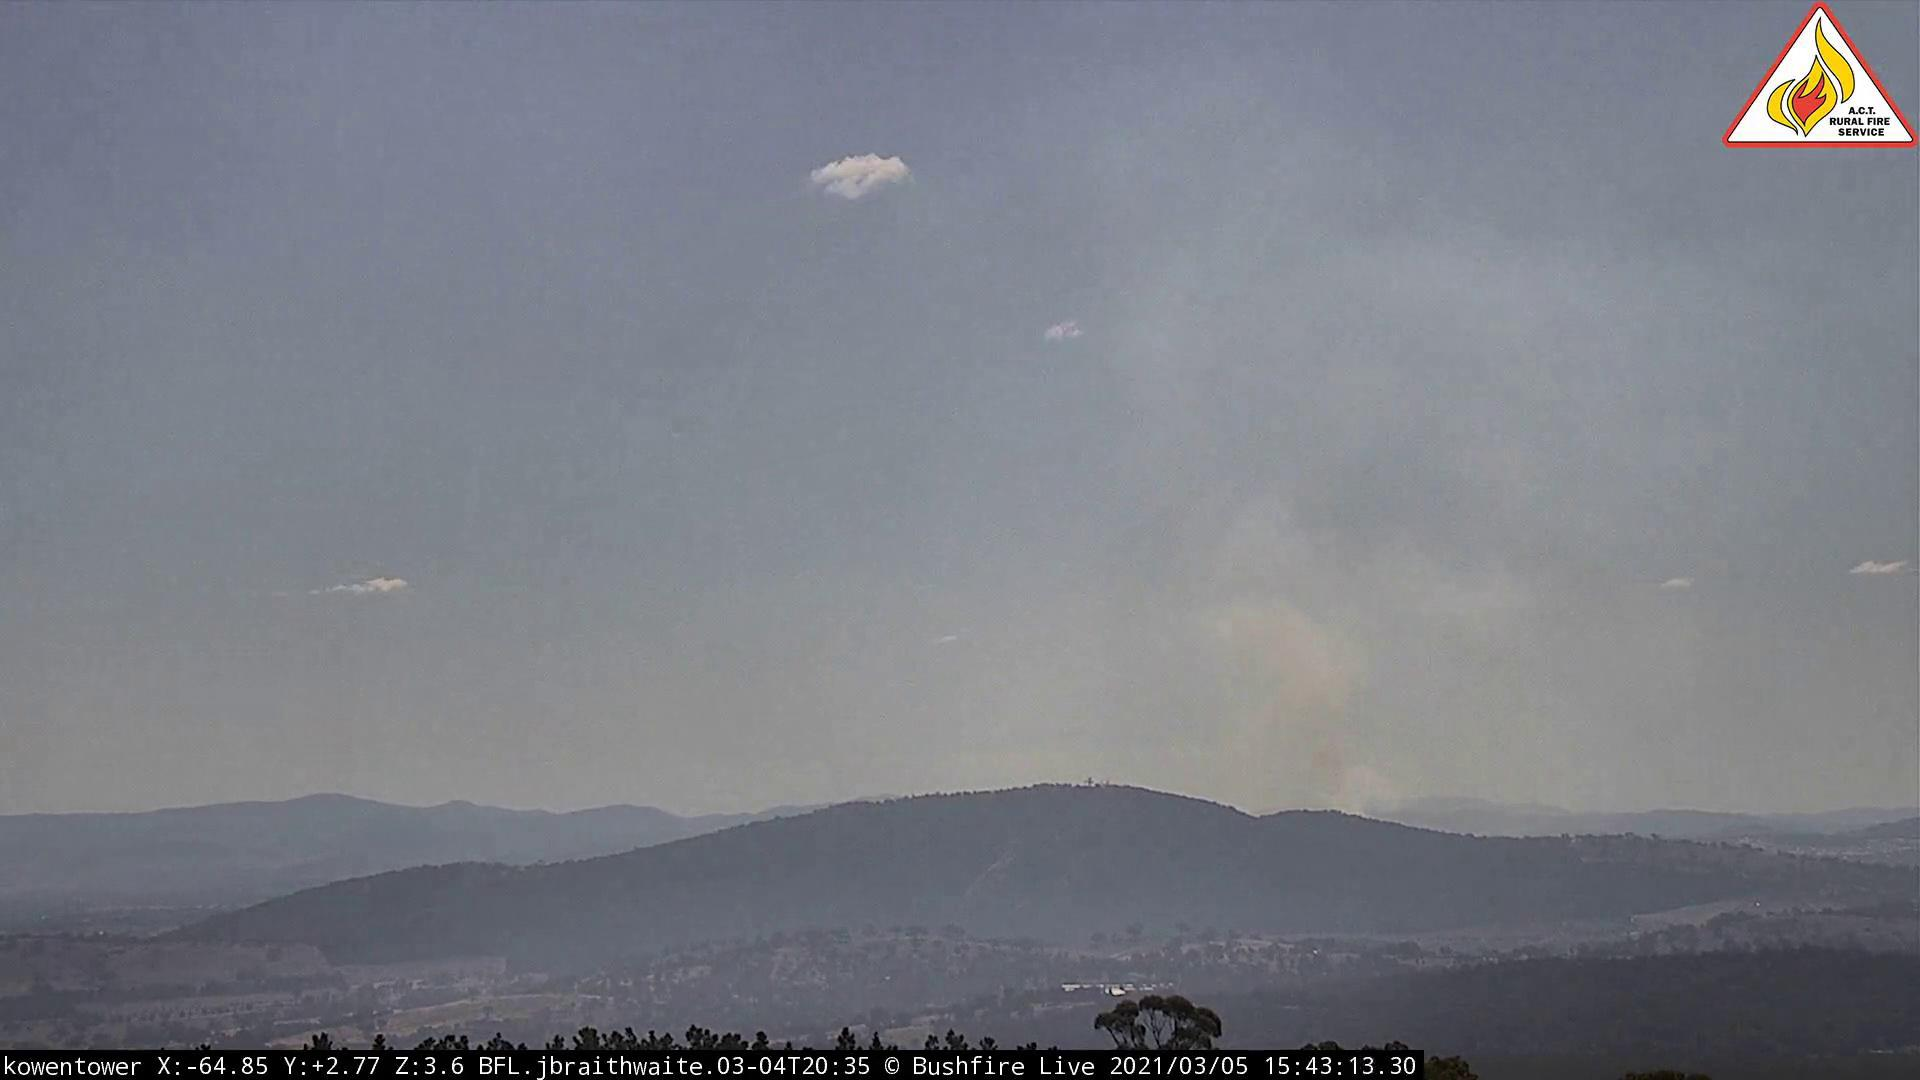Smoke: (965, 117, 1708, 853)
